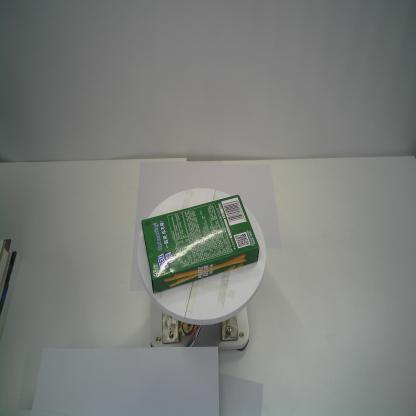Dessert: (141, 193, 261, 295)
